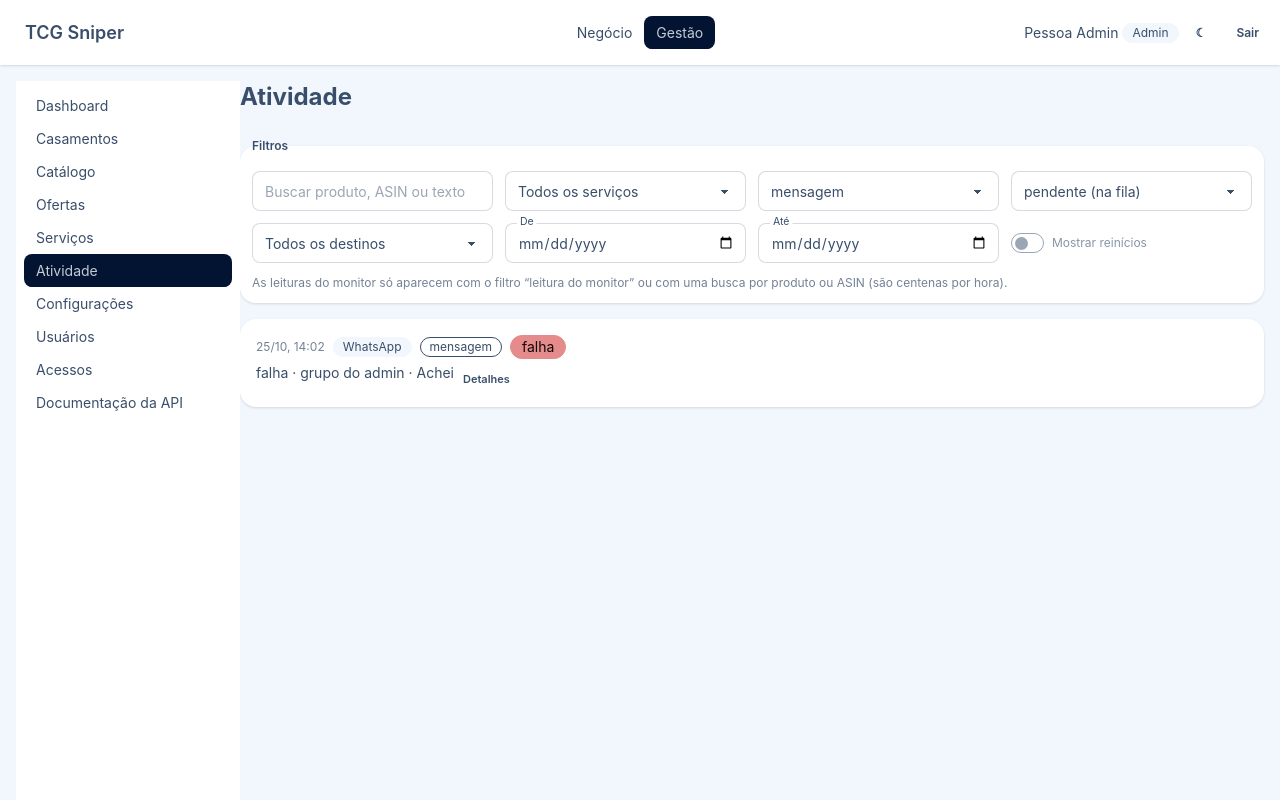
Test case: Atividade › com o_que=mensagem mostra Destino e a situação pendente; outro o_que esconde
Select "grupo do admin" in the dropdown named "Destino": (372, 243) [252, 223, 493, 263]
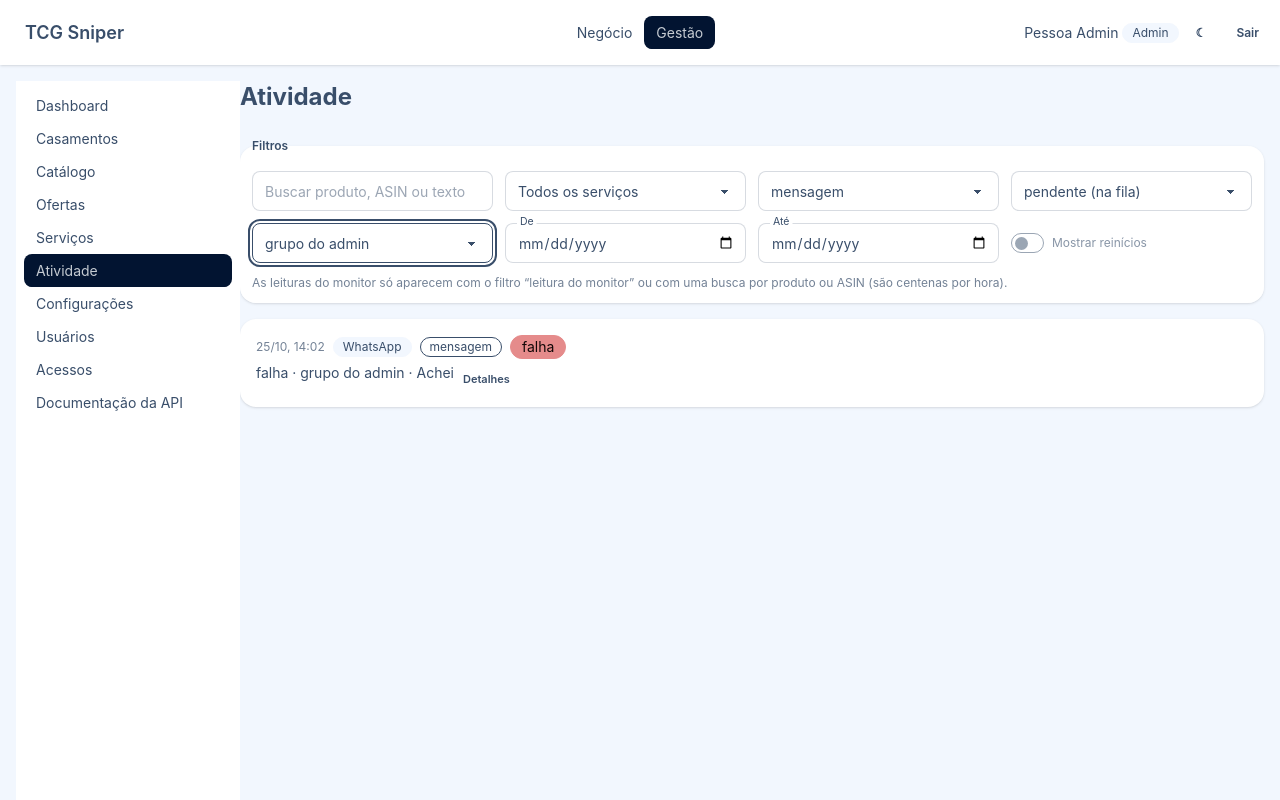
Select "Tudo" in the dropdown named "O quê": (878, 191) [758, 171, 999, 211]
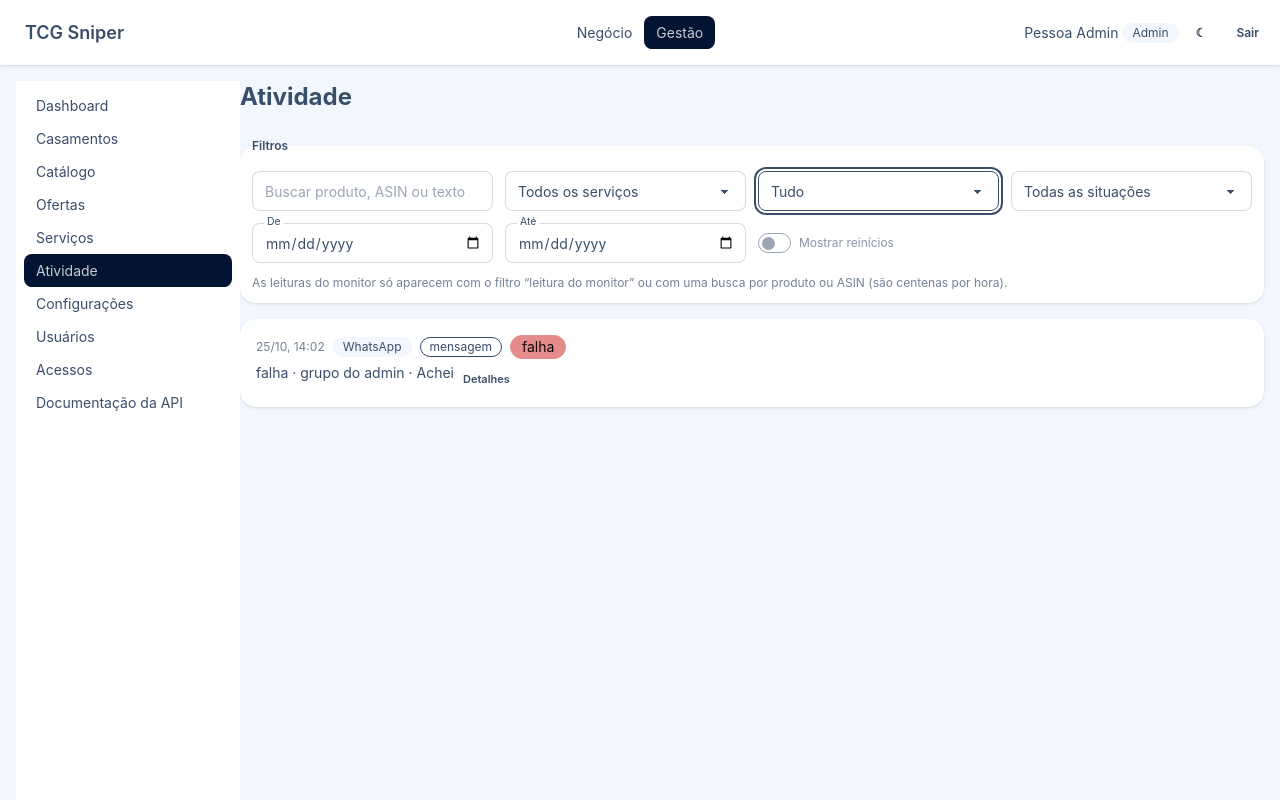
expect the option "pendente (na fila)" is not shown: met
expect the dropdown labelled "Destino" is gone: met
